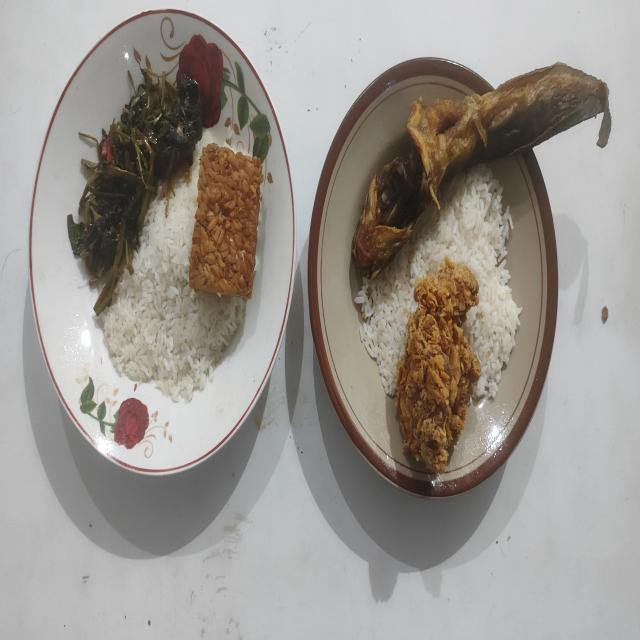nasi_putih: (355, 164, 522, 400), (101, 141, 246, 402)
tempe_goreng: (189, 143, 263, 298)
tumis_kangkung: (68, 68, 202, 314)
